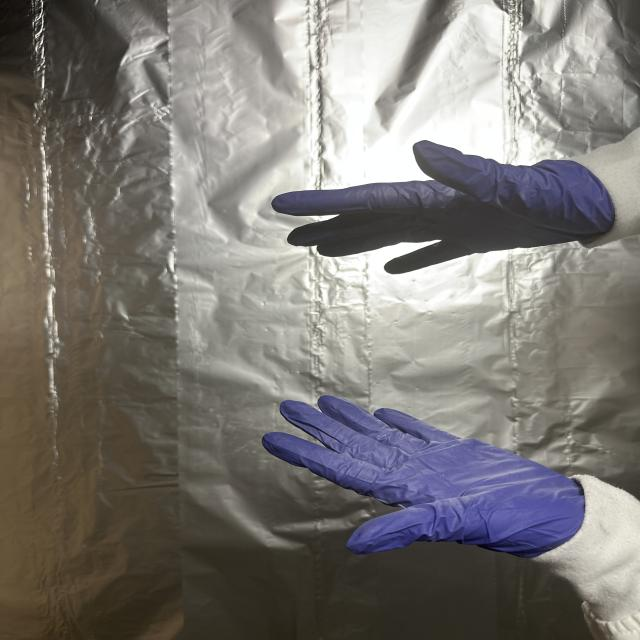gloves_contaminated: (263, 396, 585, 558), (272, 141, 614, 274)
